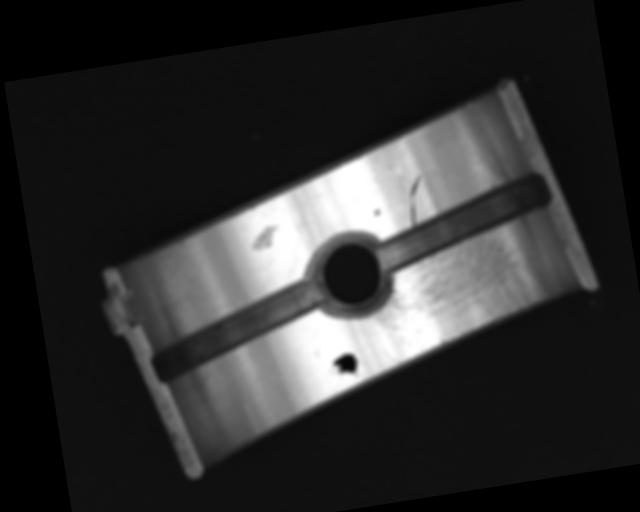blot: (326, 351, 361, 380)
bruise: (249, 224, 280, 252), (373, 207, 380, 216)
gap: (367, 169, 559, 274), (143, 277, 332, 383)
hole: (304, 228, 396, 322)
nick: (402, 173, 428, 227)
scratch: (355, 220, 556, 364)
